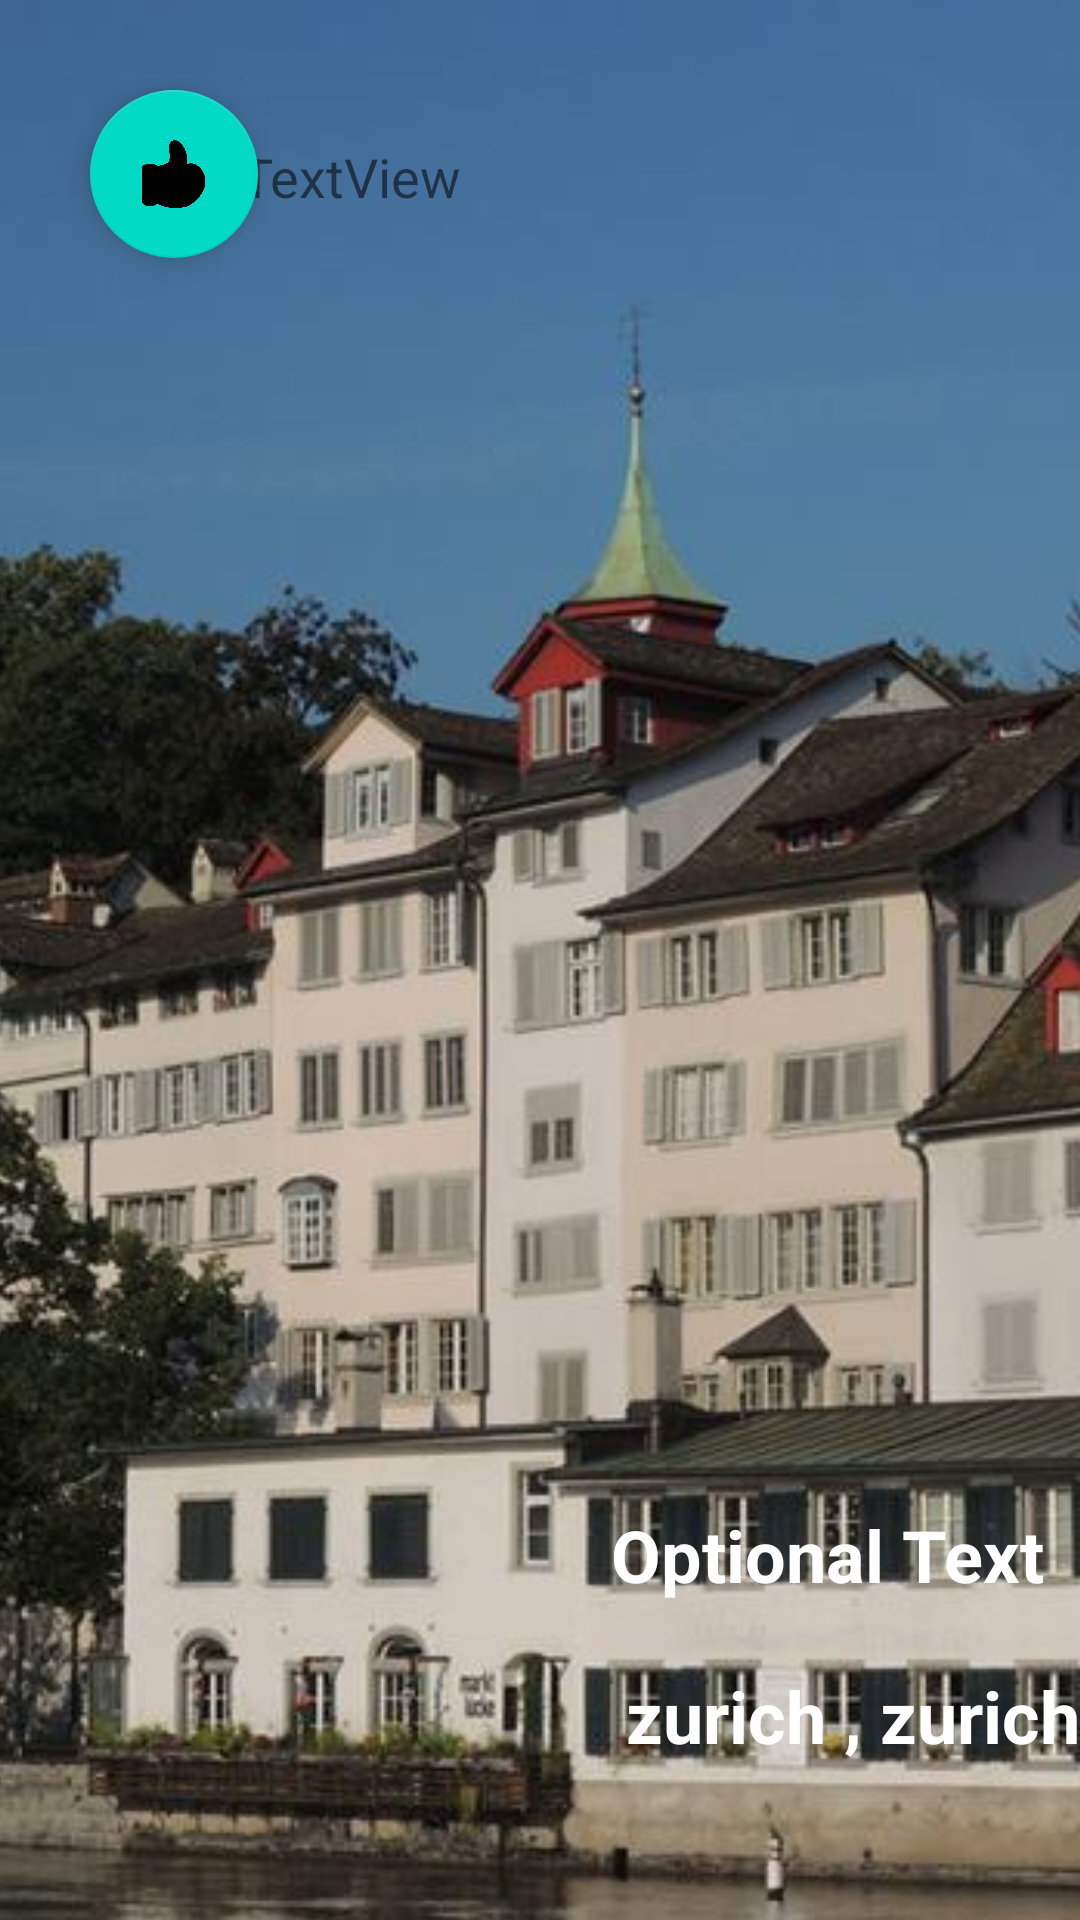

Screen size 1080×1920. Icon name, then its box in pixels as (x1, y1, x2, y2):
like: (90, 90, 258, 258)
